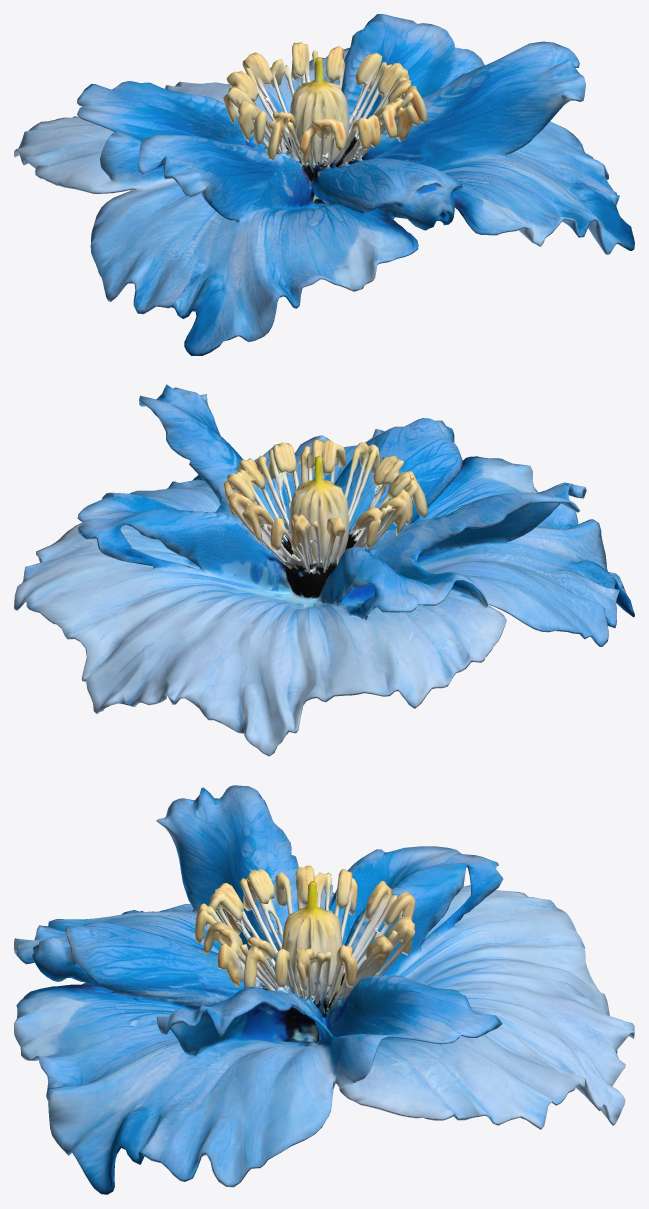
File: poppy_c3f1f0b0.glb
The picture shows the model from 3 angles, top to bottom: view 1: azimuth 30°, elevation 25°; view 2: azimuth 150°, elevation 25°; view 3: azimuth 270°, elevation 25°; orthographic projection. The views are drawn at different scales.
Bounding box in the file's own units: 1.91 × 0.6582 × 1.87.
Materials: 1 (1 with a texture image).
